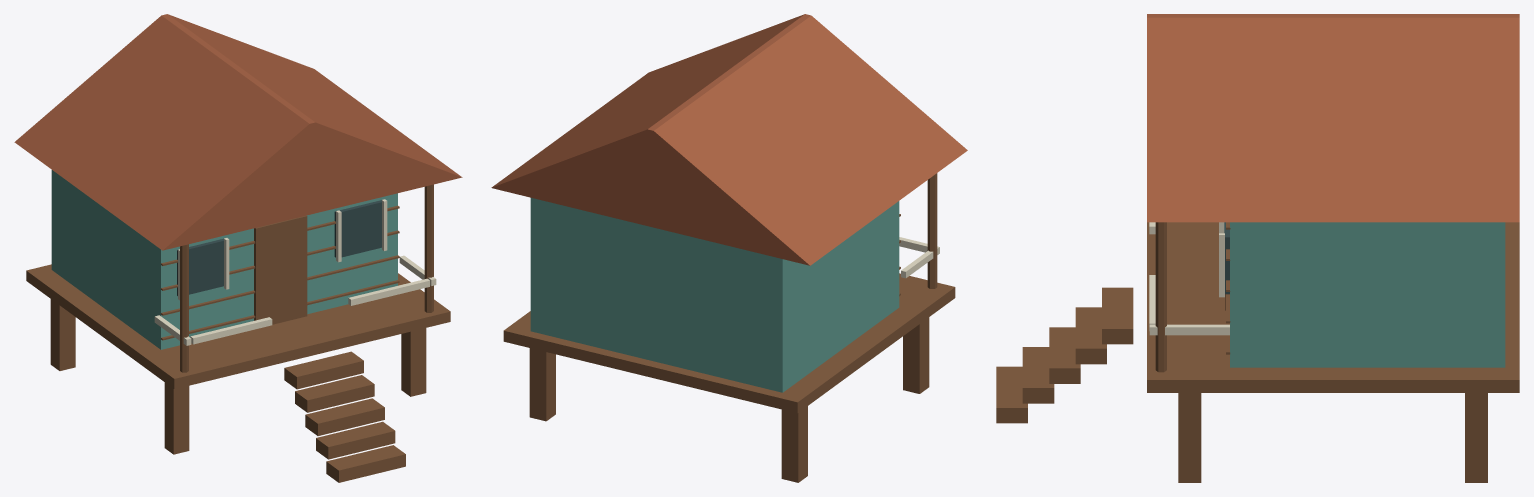
Rendered from rumah-panggung.glb.
3 views of the same model, side by side, from view 1: azimuth 30°, elevation 25°; view 2: azimuth 150°, elevation 25°; view 3: azimuth 270°, elevation 25° (orthographic). The views are drawn at different scales.
Visible parts, largest first — view 1: Rumah_Panggung_Karang_Tirta; view 2: Rumah_Panggung_Karang_Tirta; view 3: Rumah_Panggung_Karang_Tirta.
Part boxes in pixels (x1,y1,x2,y2): Rumah_Panggung_Karang_Tirta: (14,14,462,482); Rumah_Panggung_Karang_Tirta: (491,14,967,482); Rumah_Panggung_Karang_Tirta: (996,14,1519,482).
Size of the model in its own units: 7.6 by 7.5 by 9.12.
